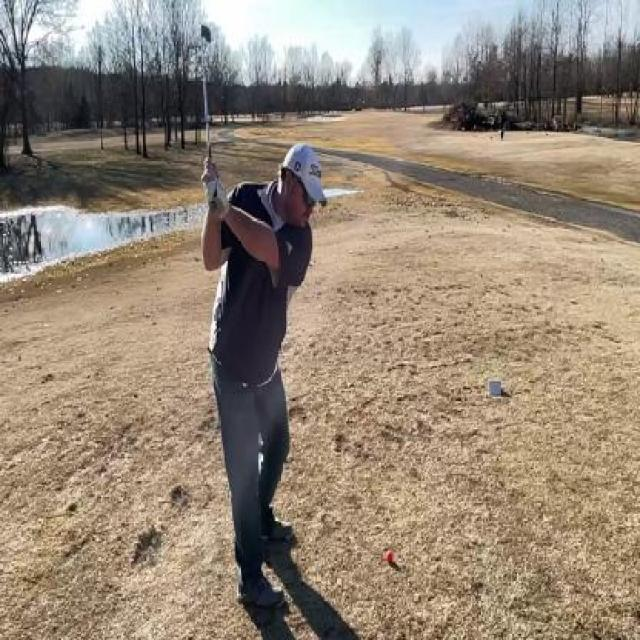club head: (197, 19, 212, 53)
